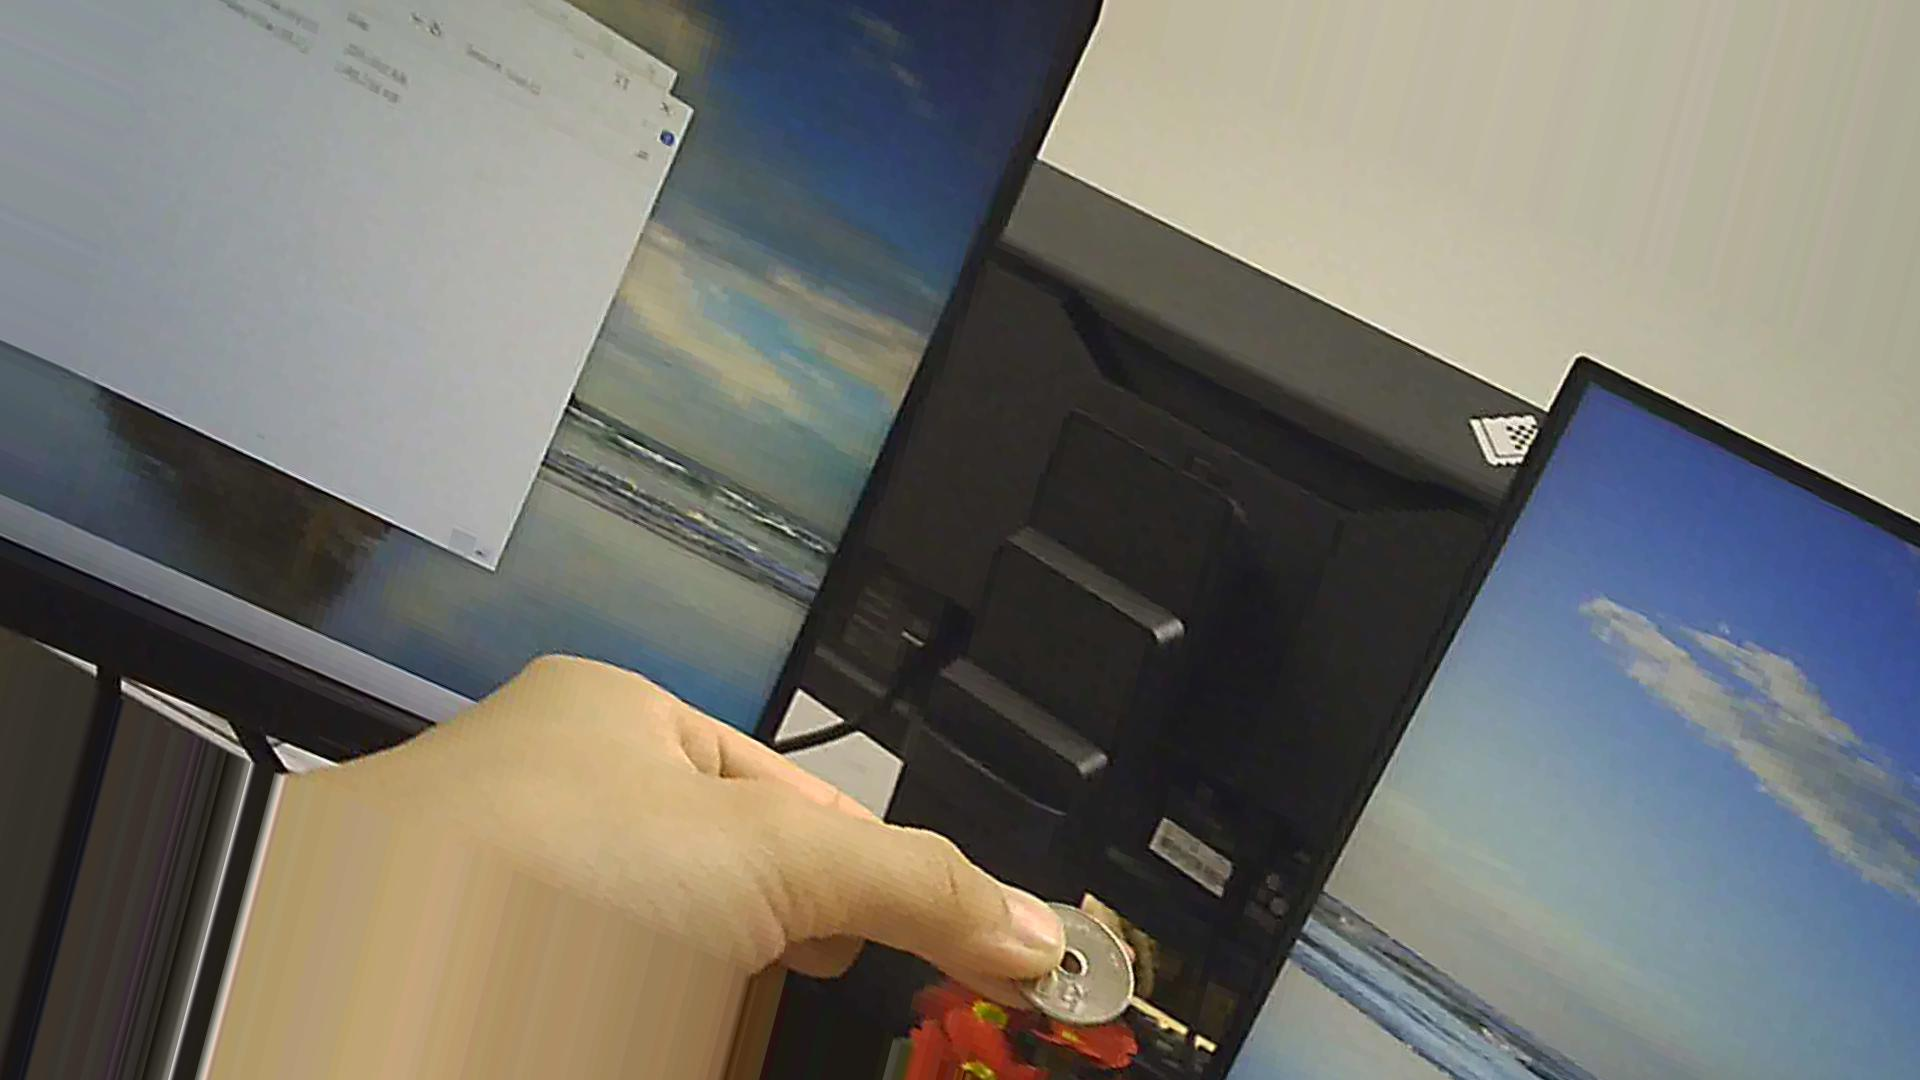50 Yen: (1007, 891, 1146, 1033)
